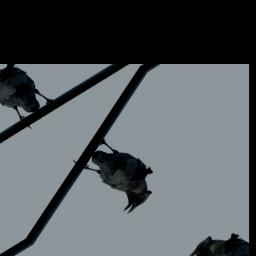Crow: (64, 131, 169, 218)
